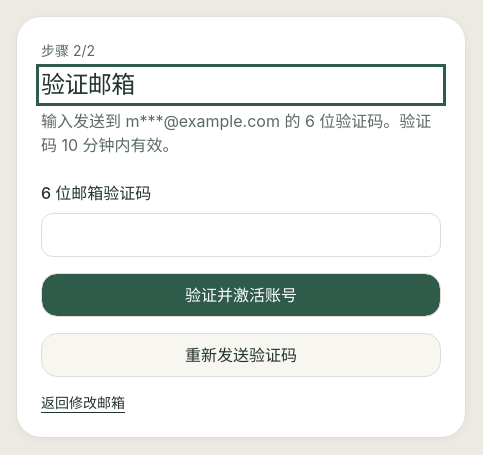
Scenario: authentication forms › returns to registration when verification submission finds an invalid context
The width and height of the screenshot is (483, 455).
Type "123456" into the field labelled "6 位邮箱验证码" at point(241, 235), box [41,213,441,257]
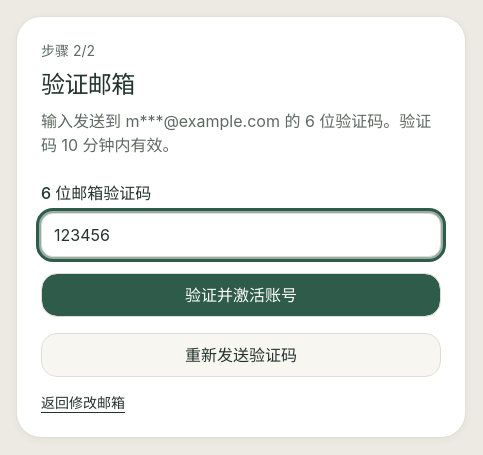
Click the button "验证并激活账号" at point(241, 295), box [41,273,441,317]
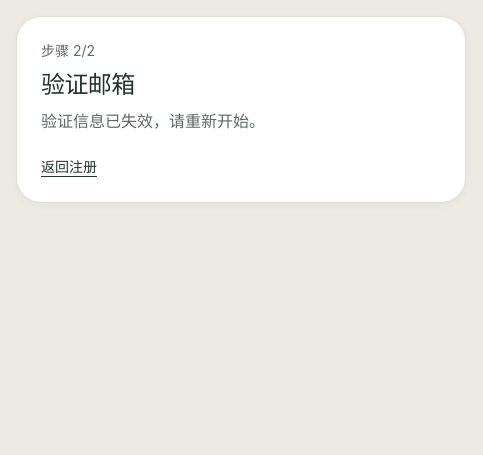
expect the text "验证信息已失效，请重新开始。" is shown: met, box [41,111,265,131]
